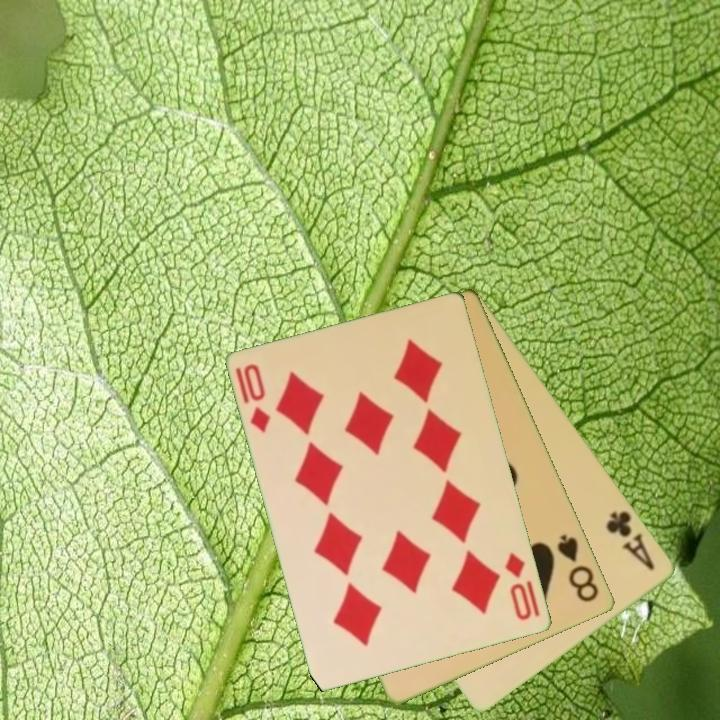10d: (501, 549, 544, 624), (232, 360, 274, 436)
8s: (554, 531, 602, 605)
Ac: (603, 507, 659, 574)
